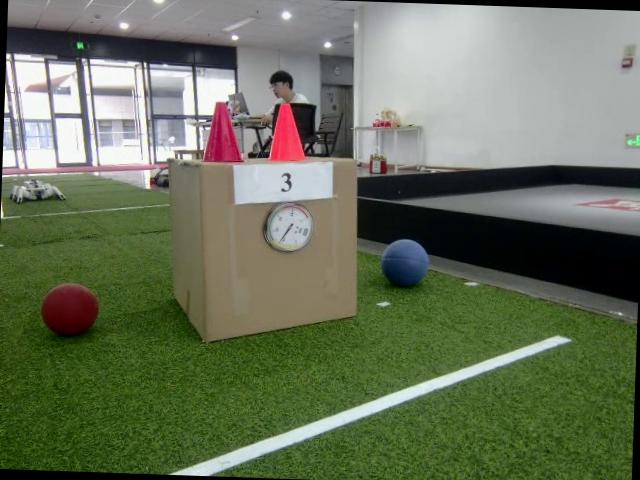3: (280, 172, 292, 192)
Dashboard: (262, 200, 315, 254)
blue_ball: (380, 238, 430, 288)
orange_barrel: (266, 103, 308, 164)
red_ball: (39, 281, 100, 339)
red_barrel: (202, 100, 246, 163)
ssi: (302, 227, 310, 238)
